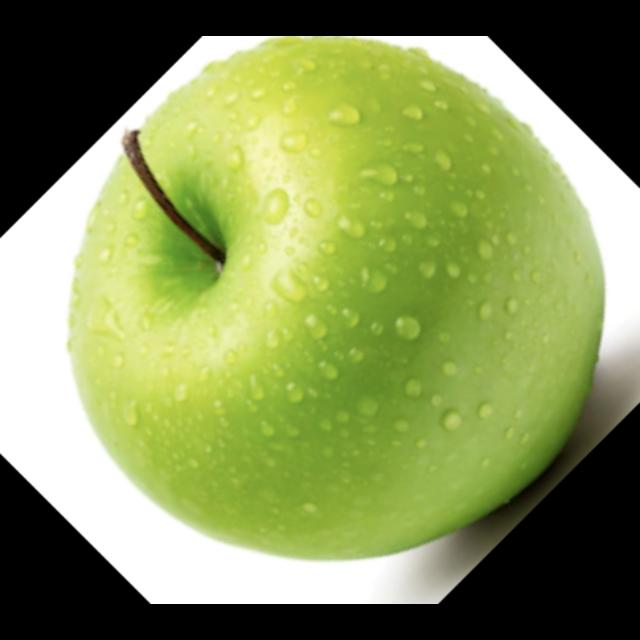Apel Segar: (62, 36, 607, 562)
